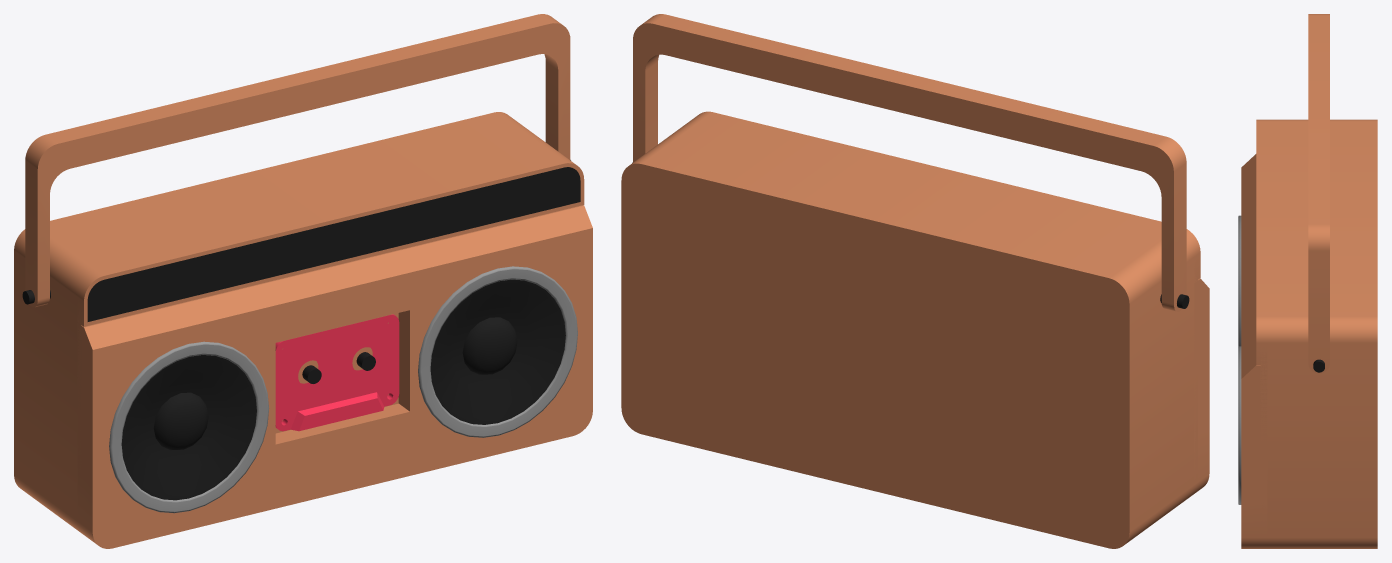
The model's file is Boombox.fbx.
3 views of the same model, side by side, from view 1: azimuth 30°, elevation 25°; view 2: azimuth 150°, elevation 25°; view 3: azimuth 270°, elevation 25° (orthographic). The views are drawn at different scales.
Parts seen in each view (by area): view 1: Boombox; view 2: Boombox; view 3: Boombox.
Part boxes in pixels (<box>): Boombox: <box>14,14,592,548</box>; Boombox: <box>621,14,1209,548</box>; Boombox: <box>1238,14,1377,548</box>.
Bounding box in the file's own units: 337 × 225 × 86.31.
